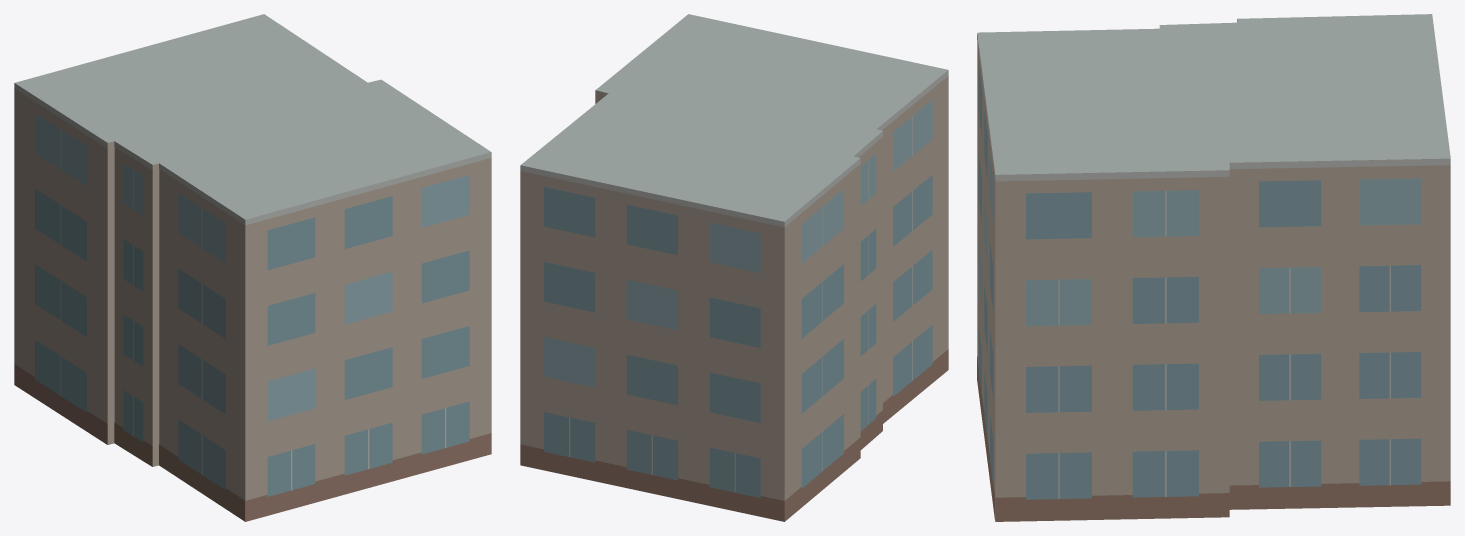
The model's file is survey-upis-33036177.glb.
3 renders of one model, left to right at view 1: azimuth 30°, elevation 25°; view 2: azimuth 150°, elevation 25°; view 3: azimuth 270°, elevation 25°, orthographic. The views are drawn at different scales.
Visible parts, largest first — view 1: survey-upis-33036177.tmp; view 2: survey-upis-33036177.tmp; view 3: survey-upis-33036177.tmp.
Boxes of the visible parts, x1,y1,x2,y2 form: survey-upis-33036177.tmp: (14, 14, 491, 521); survey-upis-33036177.tmp: (520, 14, 948, 521); survey-upis-33036177.tmp: (977, 14, 1450, 521).
Bounding box in the file's own units: 12.93 × 13 × 16.09.
